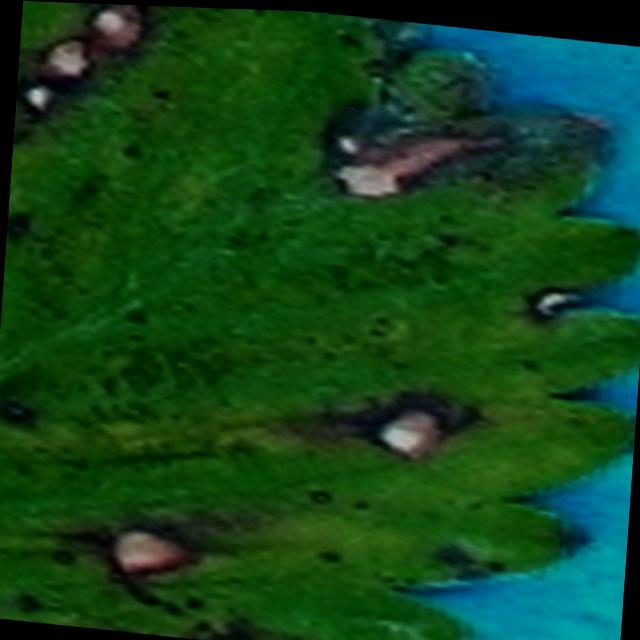Leaf Spot: (0, 1, 640, 640)
